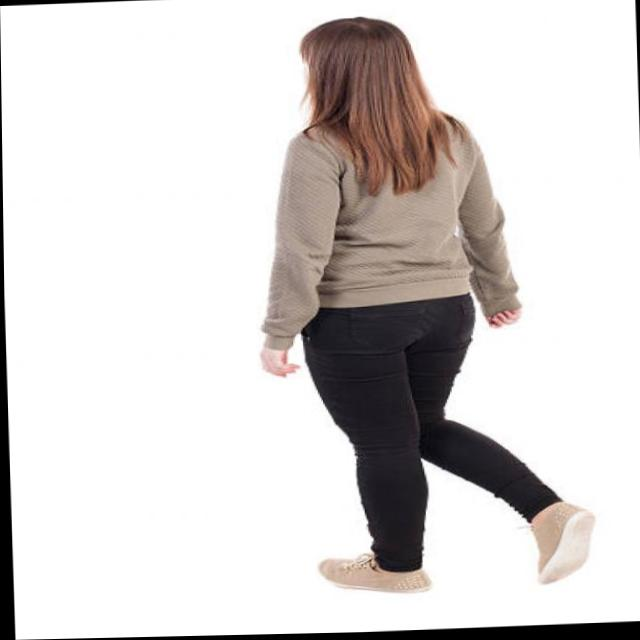no helmet: (290, 3, 470, 199)
